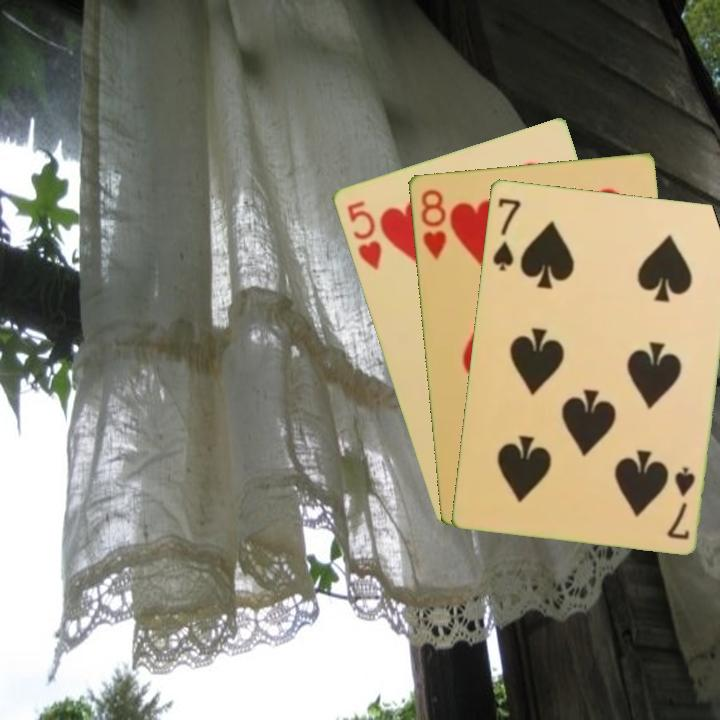5h: (343, 196, 384, 273)
7s: (488, 194, 524, 273), (663, 463, 698, 542)
8h: (417, 185, 449, 261)
